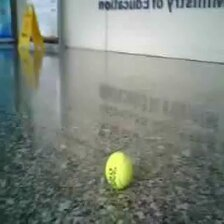tennis: (105, 151, 133, 190)
